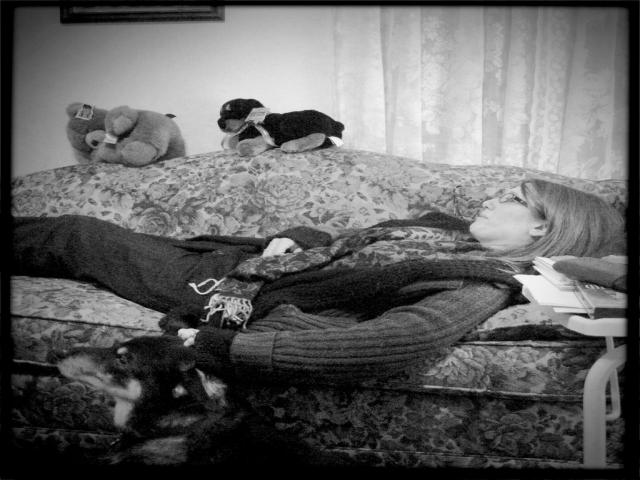Dog: (50, 304, 344, 466), (219, 97, 345, 156)
